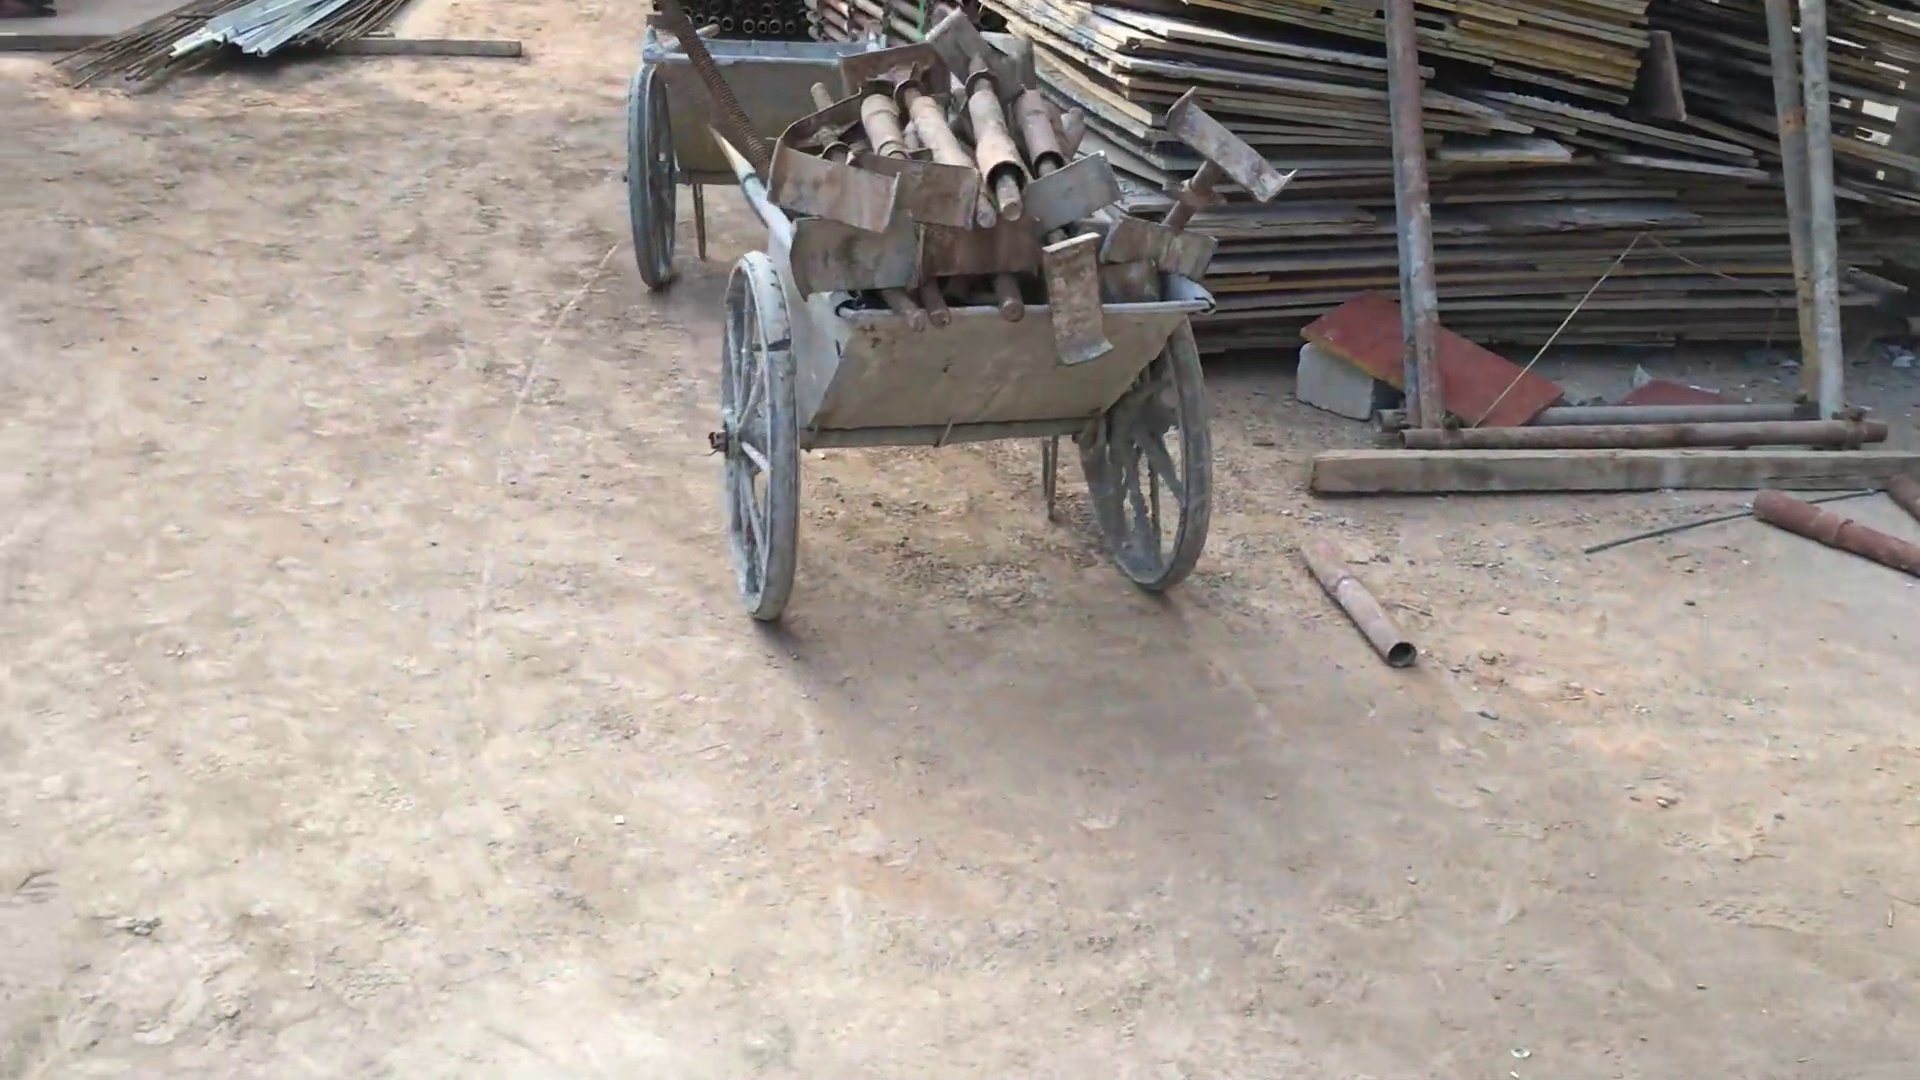board: (1014, 1, 1920, 357)
handcart: (704, 123, 1224, 625), (616, 13, 895, 294)
rebar: (55, 1, 404, 90)
